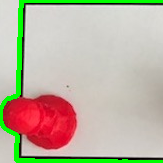Red Pawn: (1, 93, 80, 152)
